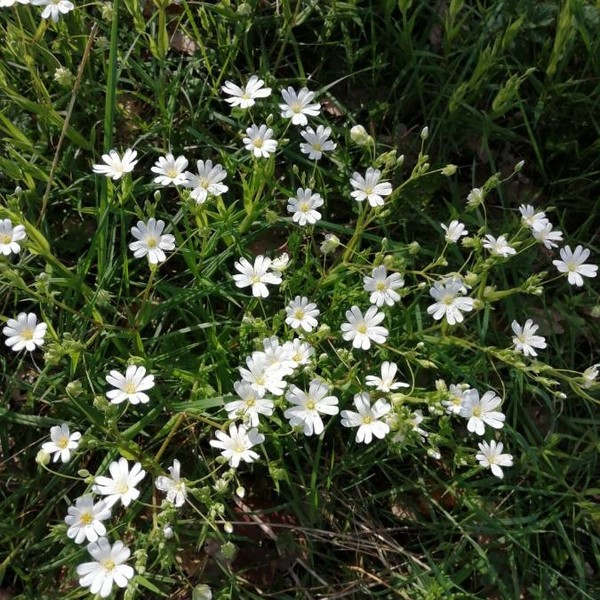obstacle: (89, 80, 544, 527), (177, 321, 436, 483)
